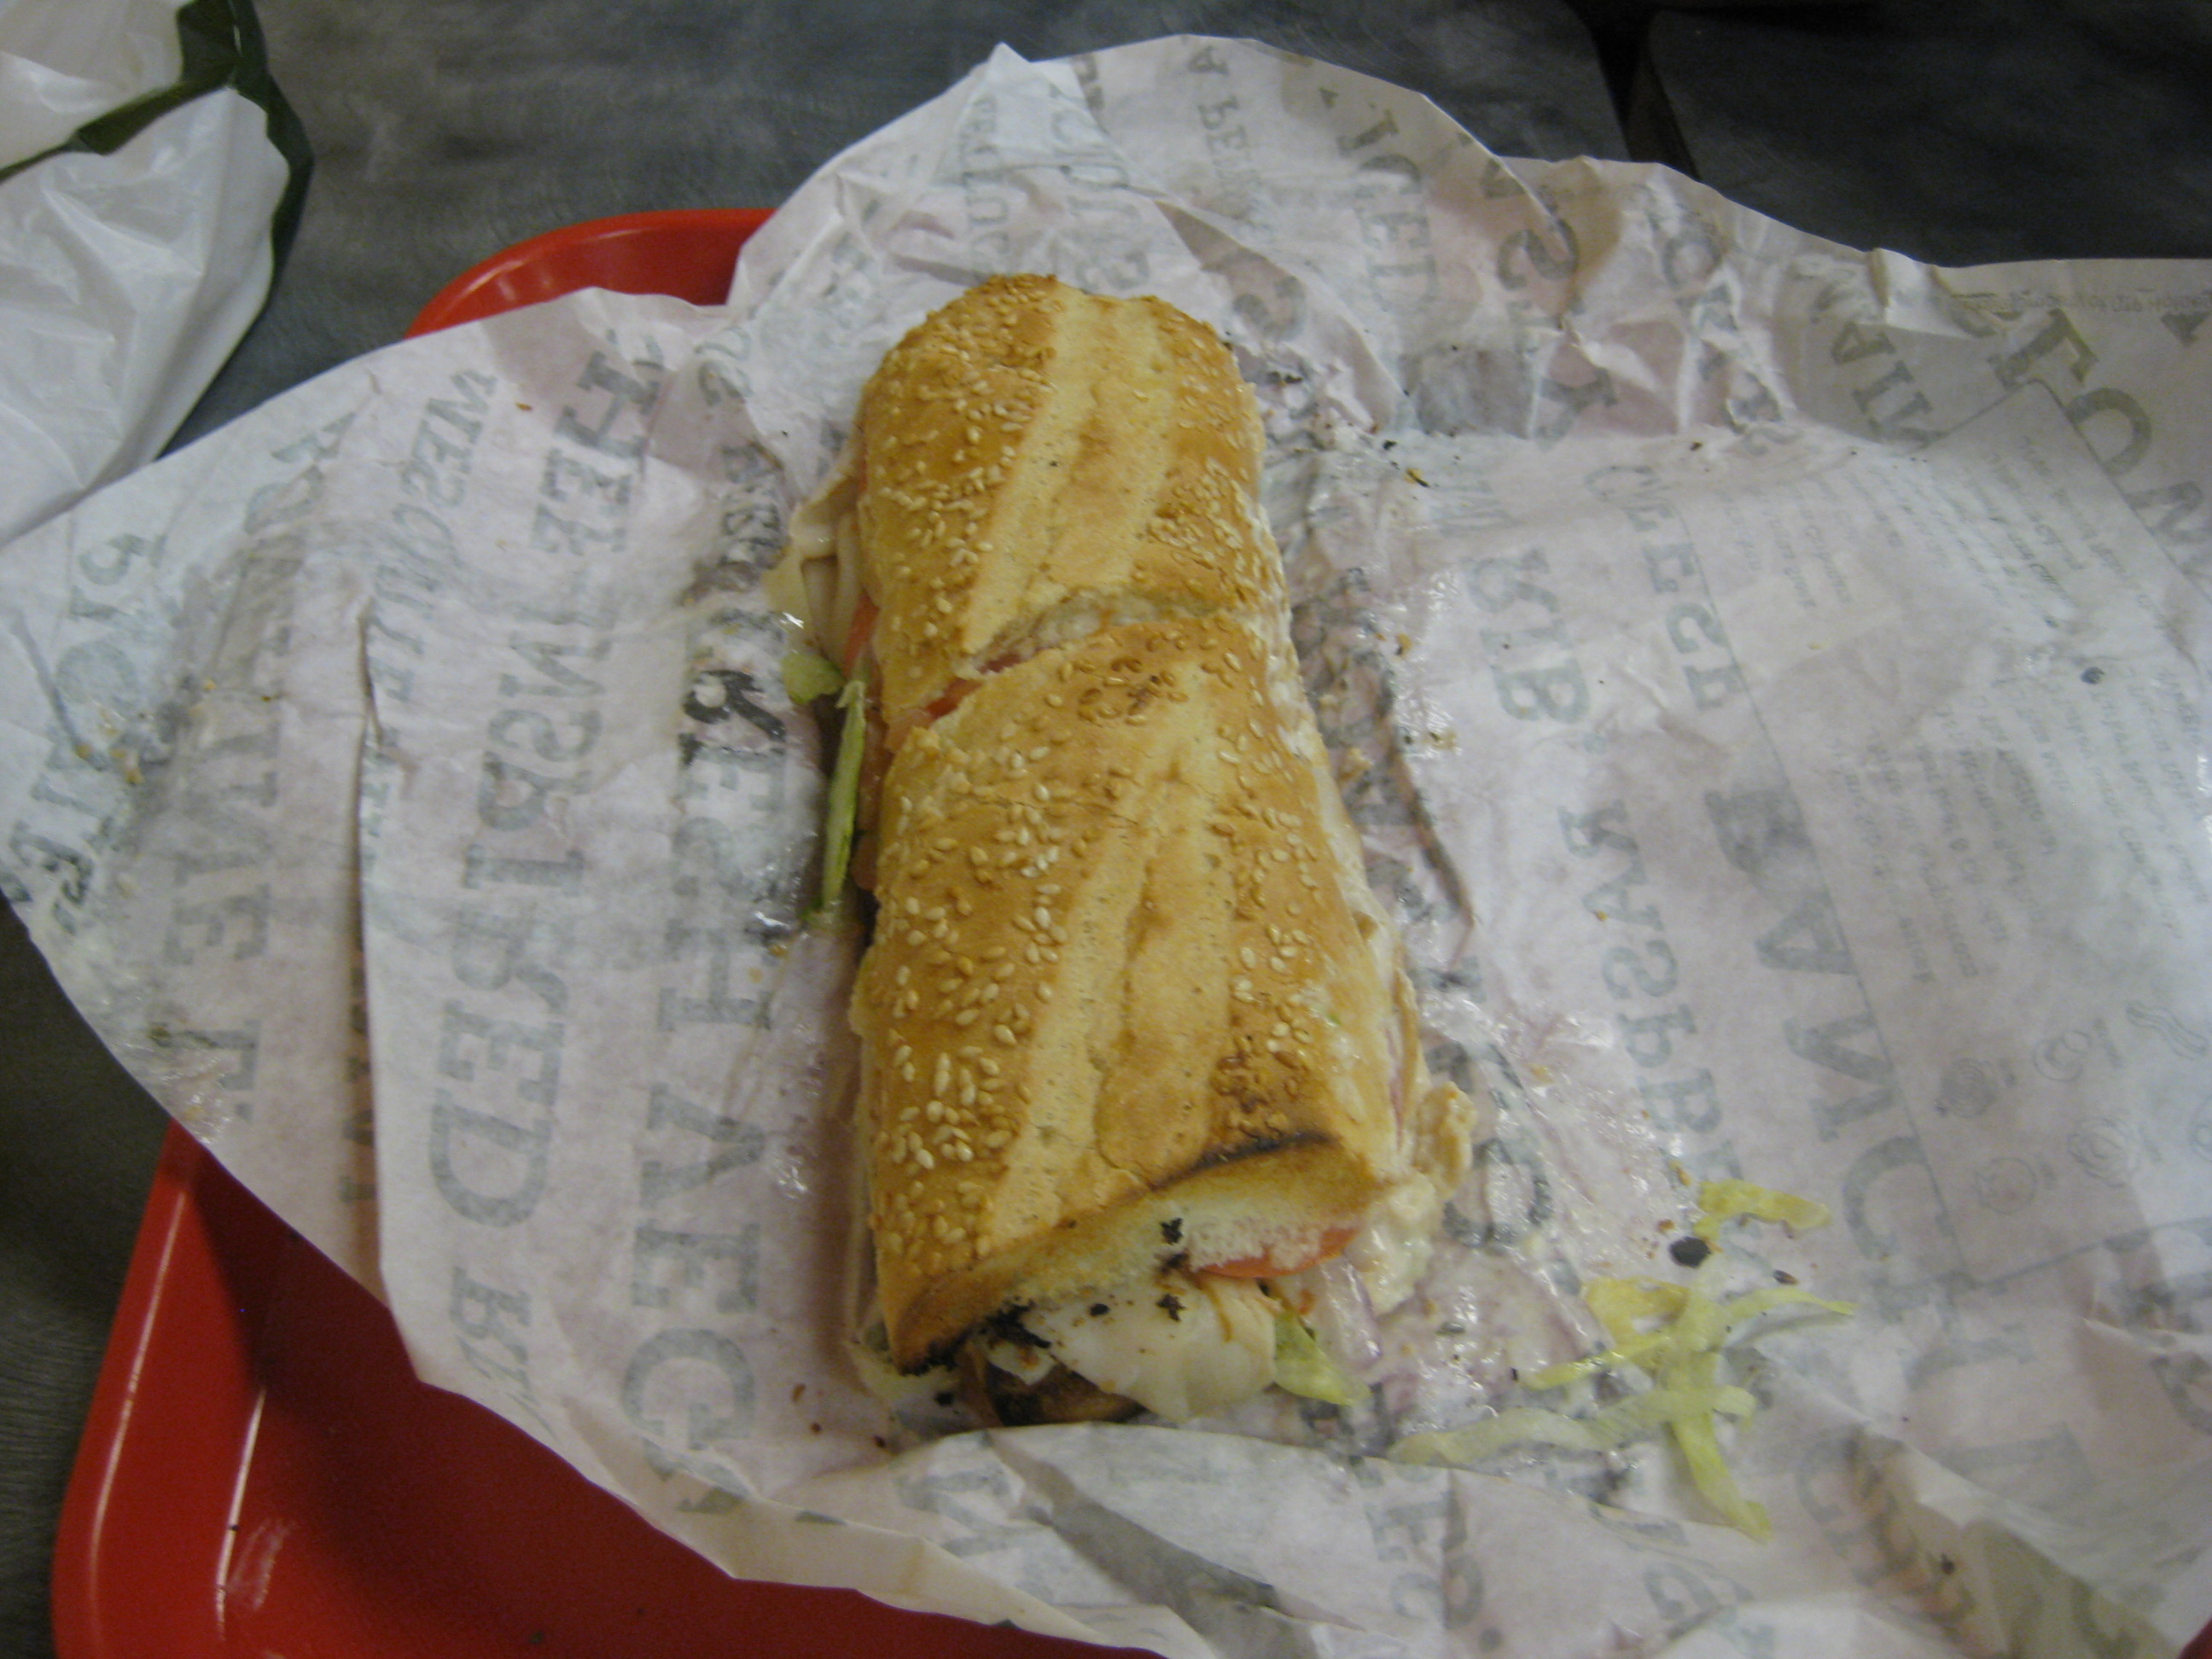sub: (810, 262, 1504, 1440)
